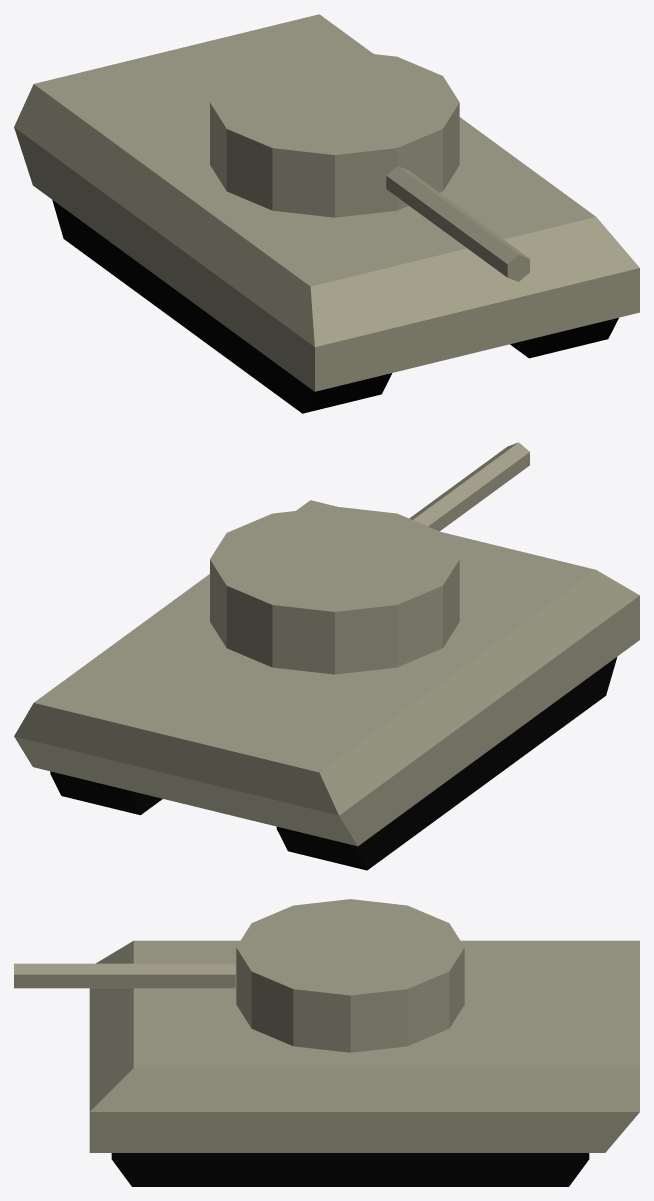
File: tank.glb
3 renders of one model, top to bottom at view 1: azimuth 30°, elevation 25°; view 2: azimuth 150°, elevation 25°; view 3: azimuth 270°, elevation 25°, orthographic. The views are drawn at different scales.
Parts seen in each view (by area): view 1: Cube, Cylinder, Cube.001, Cube.002; view 2: Cube, Cylinder, Cube.001, Cube.002; view 3: Cube, Cylinder, Cube.002.
Boxes of the visible parts, x1,y1,x2,y2 form: Cube: (14,14,639,391); Cylinder: (210,49,529,281); Cube.001: (52,200,392,413); Cube.002: (510,317,618,358); Cube: (14,500,639,846); Cylinder: (210,442,529,674); Cube.001: (276,657,617,870); Cube.002: (50,771,162,815); Cube: (89,940,639,1152); Cylinder: (14,899,464,1052); Cube.002: (111,1153,589,1186).
Size of the model in its own units: 10.01 by 5.5 by 18.26.
